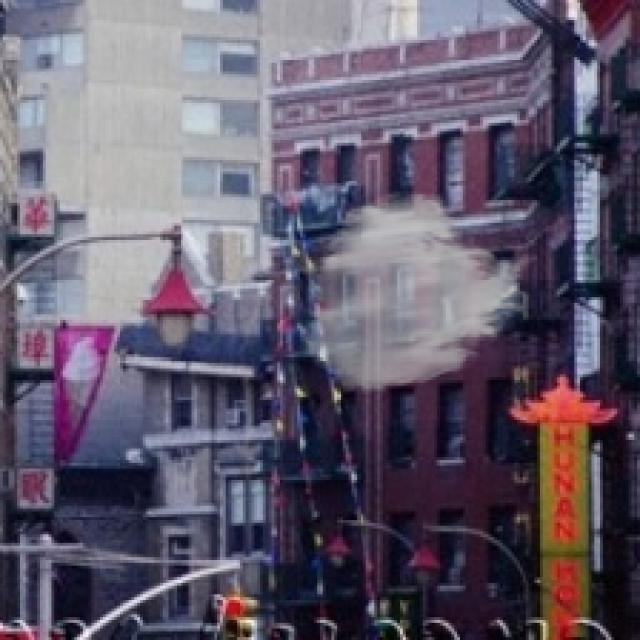smoke: (297, 189, 537, 394)
